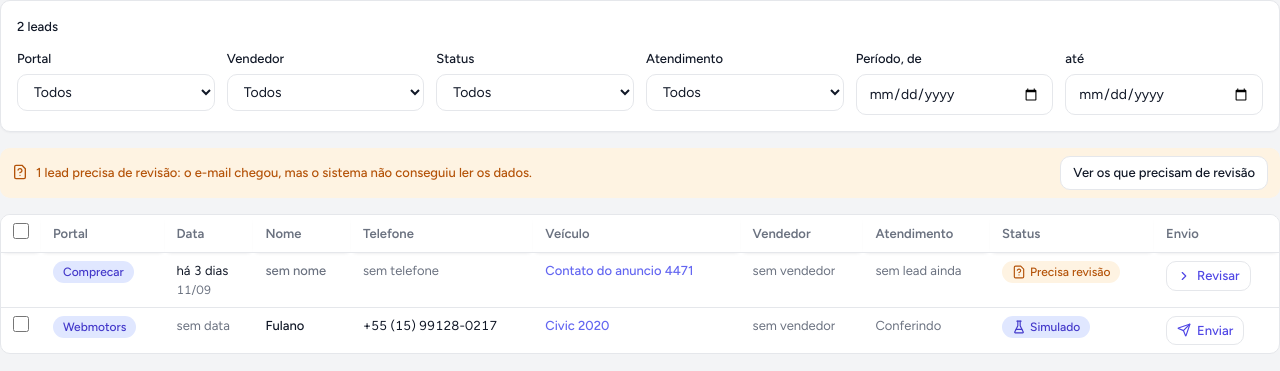
tela de leads: a fila de revisao mora aqui › o aviso leva direto para eles
Step 1. Click the button "Ver os que precisam de revisão" → (1164,173), box [1060,156,1268,190]
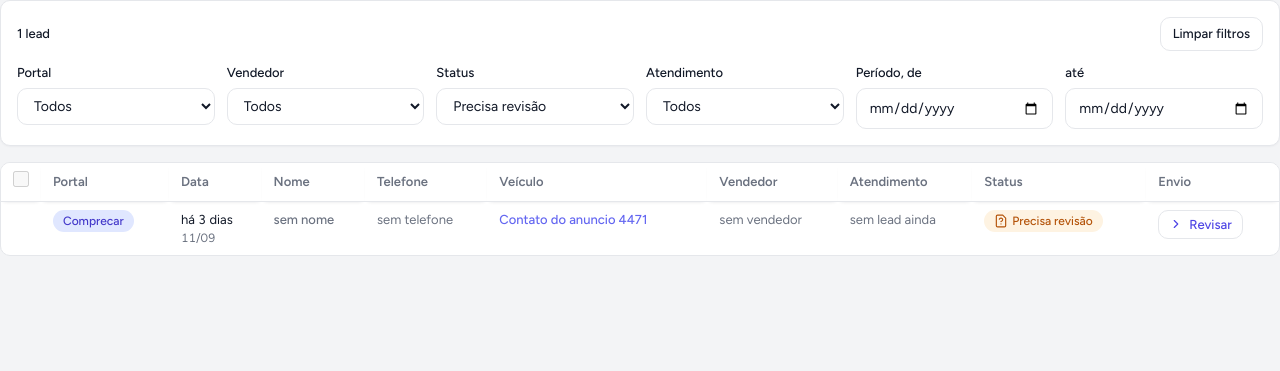
Expected: the text "Contato do anuncio 4471" is shown, [487,202,707,255]
Expected: the text "Fulano" is gone
